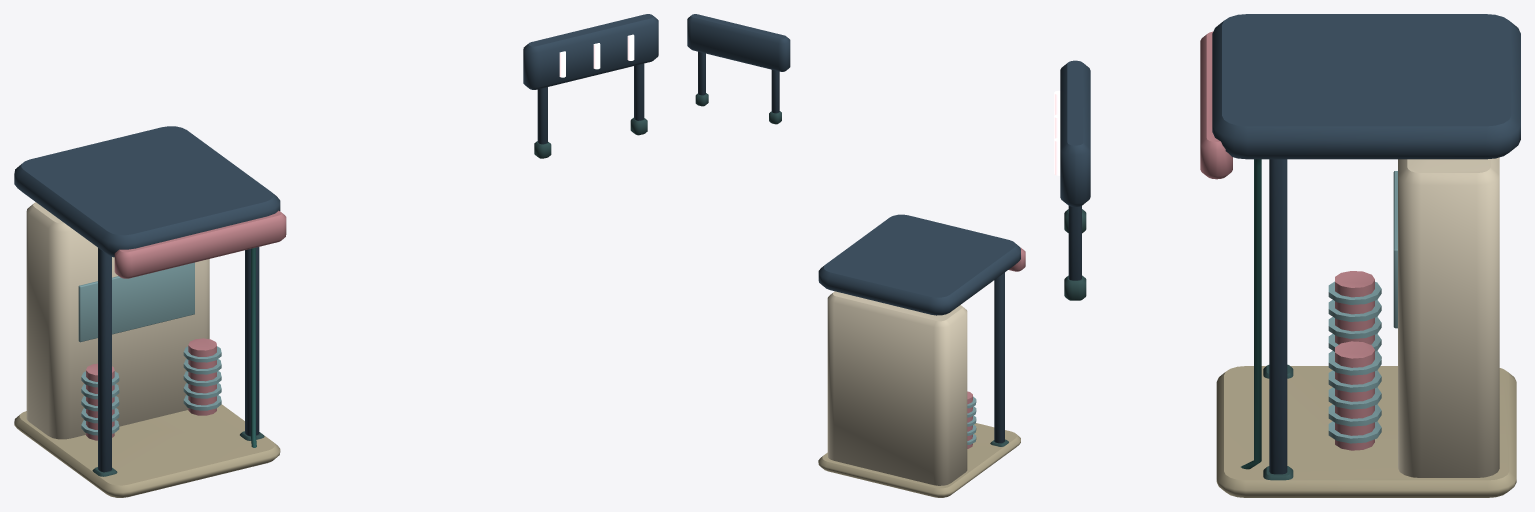
The model's file is luxury_detail_4.glb.
The picture shows the model from 3 angles, left to right: view 1: azimuth 30°, elevation 25°; view 2: azimuth 150°, elevation 25°; view 3: azimuth 270°, elevation 25°; orthographic projection. The views are drawn at different scales.
Visible parts, largest first — view 1: LuxuryDetail4; view 2: LuxuryDetail4; view 3: LuxuryDetail4.
Boxes of the visible parts, left/top/right/bottom form: LuxuryDetail4: left=14, top=14, right=658, bottom=497; LuxuryDetail4: left=687, top=14, right=1025, bottom=497; LuxuryDetail4: left=1054, top=14, right=1520, bottom=497.
Size of the model in its own units: 6.66 by 5.22 by 3.86.
